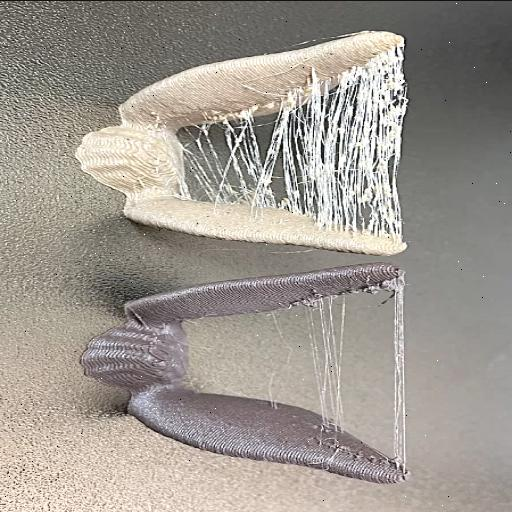stringing: (181, 47, 406, 243), (358, 278, 407, 471), (295, 294, 347, 432)
